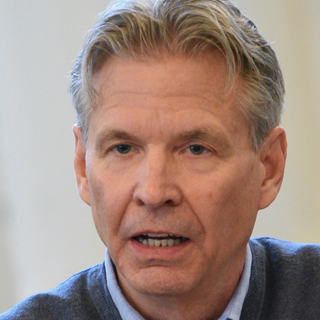eye: (174, 138, 221, 163), (99, 136, 144, 162)
